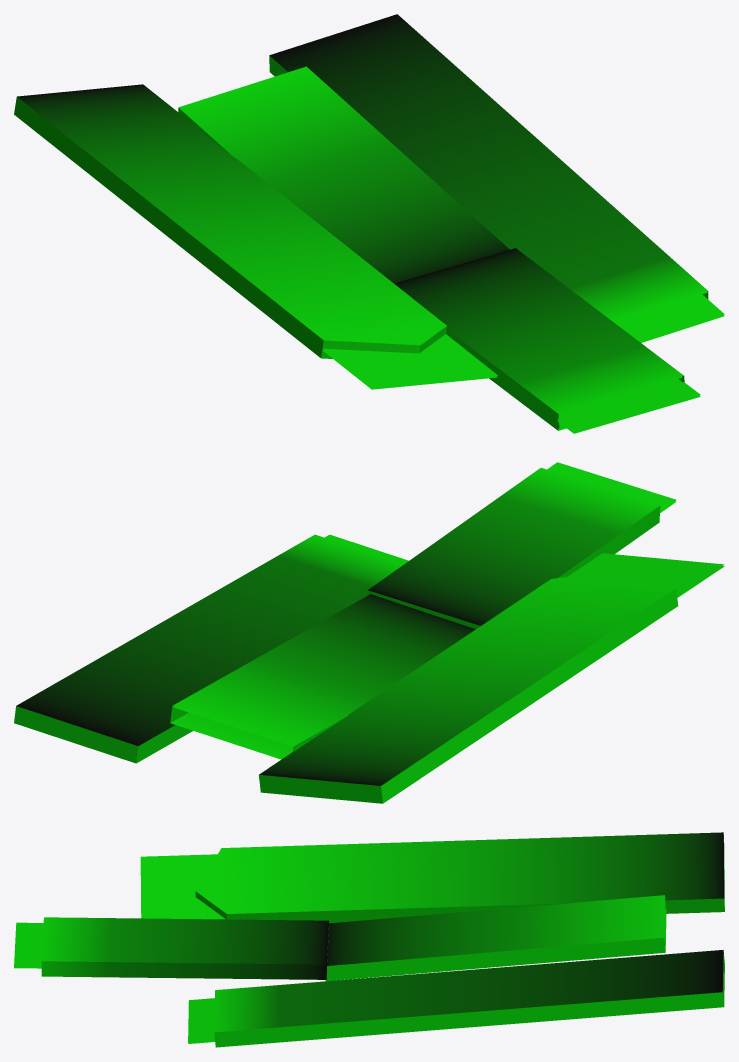
File: DBK_WoodFloor_Prop_Small_D.fbx
3 views of the same model, one above another, from view 1: azimuth 30°, elevation 25°; view 2: azimuth 150°, elevation 25°; view 3: azimuth 270°, elevation 25° (orthographic). The views are drawn at different scales.
Visible parts, largest first — view 1: DBK_WoodFloor_Prop_Small_D; view 2: DBK_WoodFloor_Prop_Small_D; view 3: DBK_WoodFloor_Prop_Small_D.
Boxes of the visible parts, x1,y1,x2,y2 form: DBK_WoodFloor_Prop_Small_D: [14, 14, 724, 433]; DBK_WoodFloor_Prop_Small_D: [14, 462, 724, 803]; DBK_WoodFloor_Prop_Small_D: [14, 832, 724, 1047].
Size of what is drawn, in the model's own units: 44.96 by 9.78 by 88.18.
